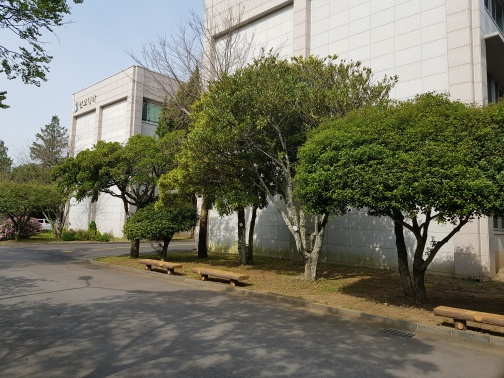College of Nursing: (200, 1, 494, 270), (61, 65, 161, 237)
